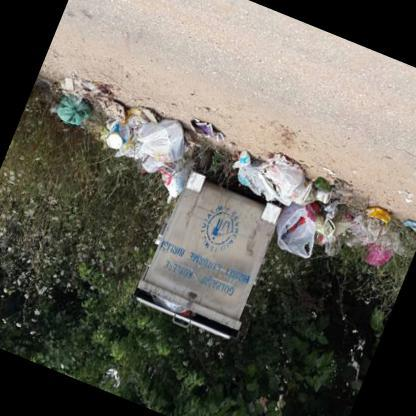Garbage: (42, 70, 190, 181), (270, 184, 347, 263), (230, 138, 314, 206)
